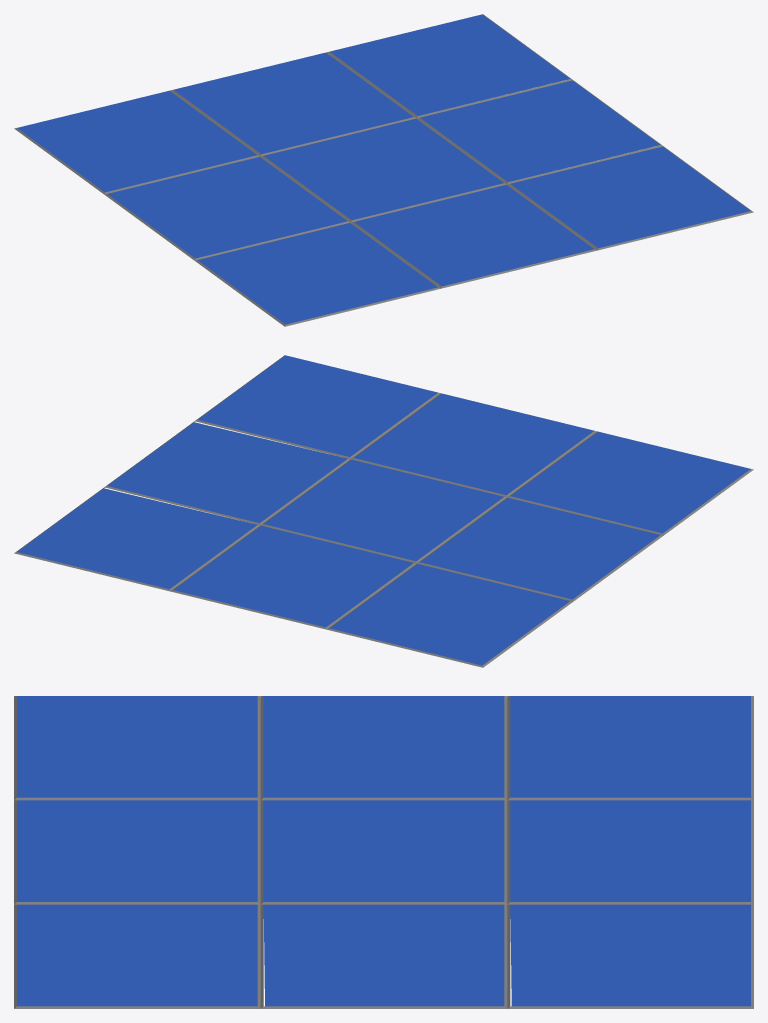
Rendered from zemin.fbx.
The picture shows the model from 3 angles, top to bottom: view 1: azimuth 30°, elevation 25°; view 2: azimuth 150°, elevation 25°; view 3: azimuth 270°, elevation 25°; orthographic projection. The views are drawn at different scales.
Visible parts, largest first — view 1: duzzemin, Plane006; view 2: duzzemin, Plane006; view 3: duzzemin, Plane006.
Boxes of the visible parts, bbox=[...] form: duzzemin: bbox=[17, 14, 750, 324]; Plane006: bbox=[14, 14, 753, 326]; duzzemin: bbox=[17, 355, 750, 665]; Plane006: bbox=[14, 355, 753, 667]; duzzemin: bbox=[17, 696, 750, 1006]; Plane006: bbox=[14, 696, 753, 1008].
Size of the model in its own units: 100 by 0.2 by 100.
